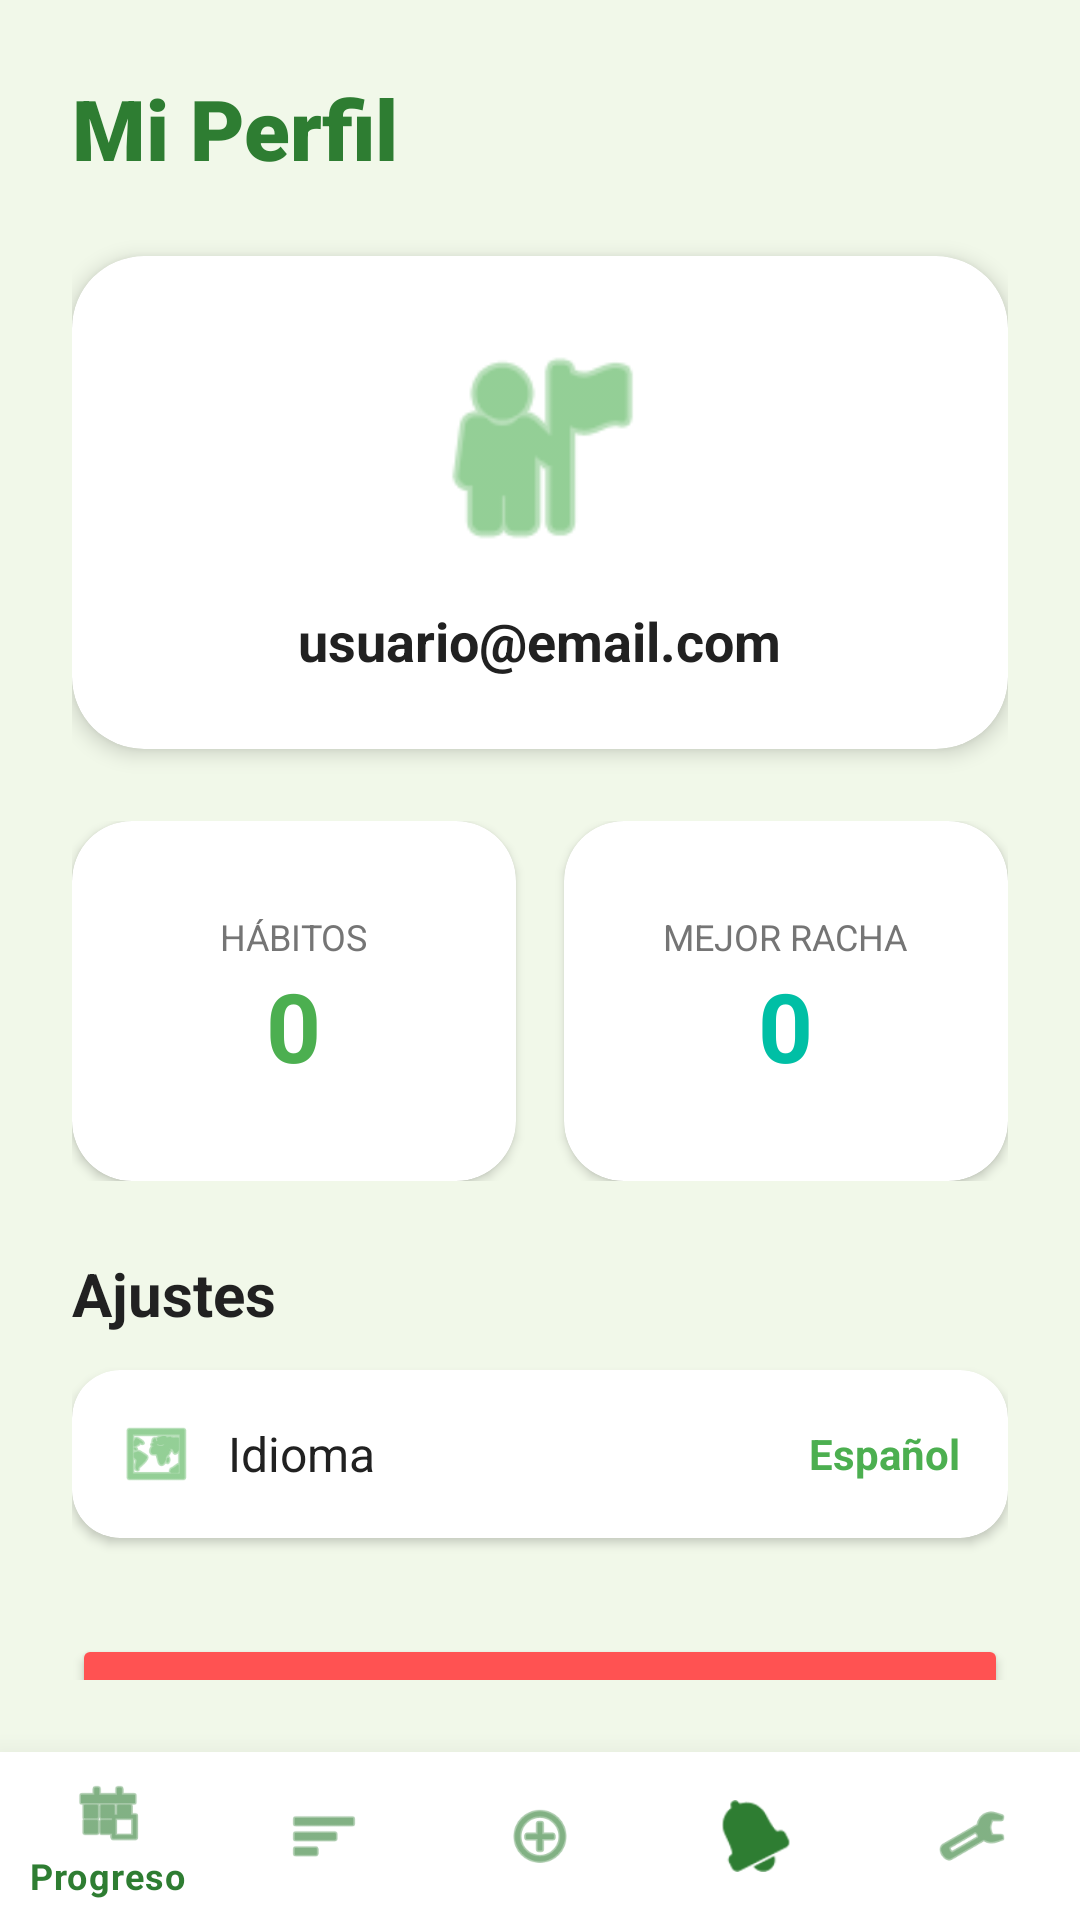

Where to tap for icons on this 1080w x 1920h app screen, as (x,y):
mapmode: (156,1454)
